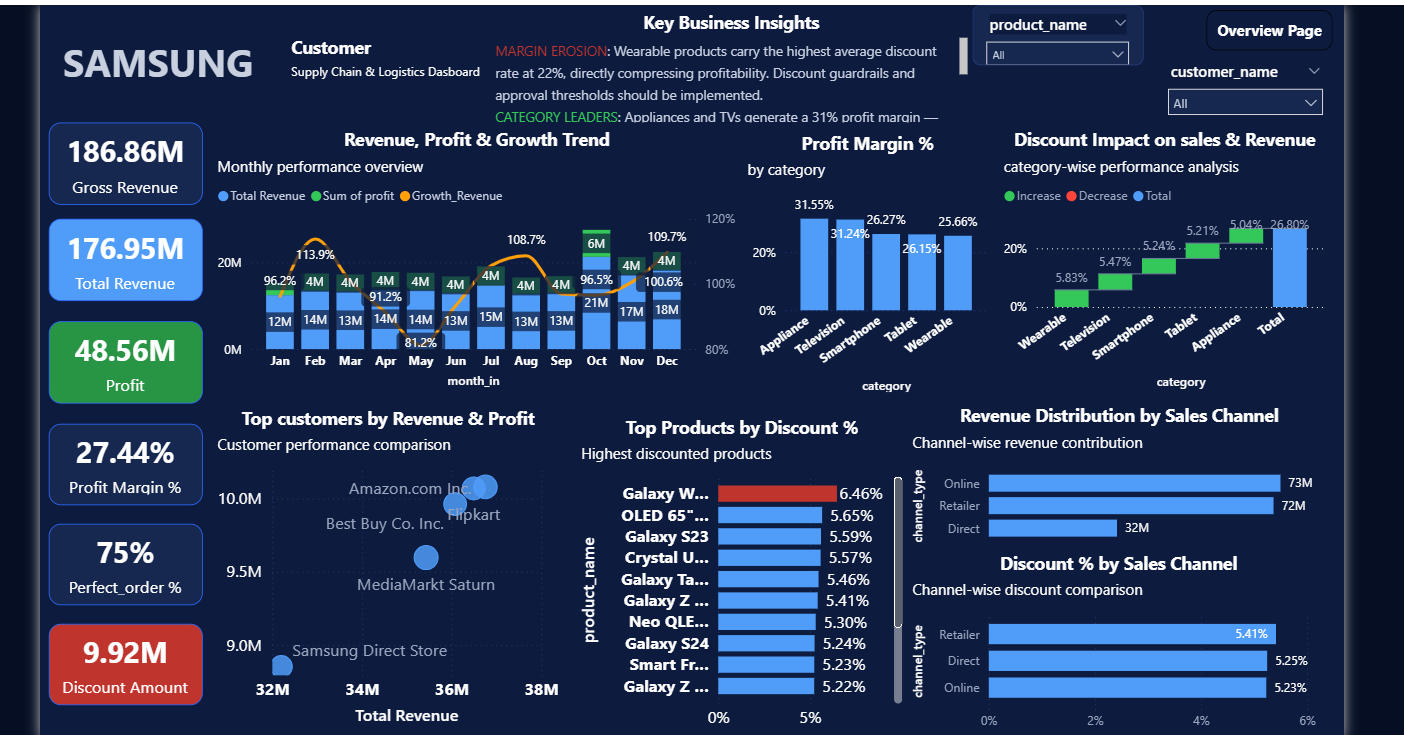

This screenshot's page, from the dashboard's own definition file:
{"tool":"powerbi","page":{"name":"Customer","canvas":[1280,720],"ordinal":5},"visuals":[{"type":"textbox","title":"Customer","box":[241.7,29.4,240.5,51.5],"z":0},{"type":"image","box":[8.6,17.2,224.5,56.4],"z":1000},{"type":"card","fields":{"Values":["MeasuresTable.Total Revenue"]},"box":[8.4,209.9,150.8,80.8],"z":2000},{"type":"card","fields":{"Values":["MeasuresTable.Profit"]},"box":[8.4,310.1,150.8,80.8],"z":3000},{"type":"card","fields":{"Values":["MeasuresTable.Profit Margin %"]},"box":[8.4,411.4,150.8,79.6],"z":4000},{"type":"card","fields":{"Values":["Sum(fact_sales.gross_revenue)"]},"box":[8.4,115.8,150.8,80.8],"z":5000},{"type":"card","fields":{"Values":["MeasuresTable.Perfect_order %"]},"box":[8.4,509.1,150.8,79.6],"z":6000},{"type":"card","fields":{"Values":["Sum(fact_sales.discount_amount)"]},"box":[8.4,606.8,150.8,79.6],"z":7000},{"type":"barChart","title":"Top customers by Revenue & Profit","fields":{"Category":["dim_customer.customer_name"],"Y":["MeasuresTable.Total Revenue","Sum(fact_sales.profit)"]},"box":[168.9,393.3,345,317.3],"z":8000},{"type":"donutChart","title":"Revenue Distribution by Sales Channel","fields":{"Y":["MeasuresTable.Total Revenue"],"Category":["dim_customer.channel_type"]},"box":[851.5,385.3,414.7,154.6],"z":9000},{"type":"lineStackedColumnComboChart","title":"Revenue, Profit & Growth Trend","fields":{"Category":["dim_date.Month_Short"],"Y":["MeasuresTable.Total Revenue","Sum(fact_sales.profit)"],"Y2":["MeasuresTable.Growth_Revenue"]},"box":[172.5,126.7,520,259.4],"z":10000},{"type":"clusteredBarChart","title":"Top Products by Discount %","fields":{"Category":["dim_product.product_name"],"Y":["MeasuresTable.Discount %"]},"box":[526,393.3,325.7,318.5],"z":11000},{"type":"scatterChart","title":"Discount Impact on sales & Revenue","fields":{"X":["MeasuresTable.Discount %"],"Series":["dim_product.category"],"Y":["Sum(fact_sales.quantity_sold)"],"Size":["MeasuresTable.Total Revenue"]},"box":[941,120.6,325.7,261.8],"z":12000},{"type":"donutChart","title":"Discount % by Sales Channel","fields":{"Category":["dim_customer.channel_type"],"Y":["MeasuresTable.Discount %"]},"box":[861.4,548.9,405.4,160.5],"z":13000},{"type":"slicer","fields":{"Values":["dim_product.product_name"]},"box":[915.7,0,167.7,59.1],"z":14000},{"type":"actionButton","box":[1144.9,4.8,124.3,39.8],"z":15000},{"type":"slicer","fields":{"Values":["dim_customer.customer_name"]},"box":[1096.7,50.7,172.5,62.7],"z":16000},{"type":"barChart","fields":{"Category":["dim_product.category"],"Y":["MeasuresTable.Profit Margin %"]},"box":[699.7,124.3,235.3,258.2],"z":17000},{"type":"textbox","title":"Key Business Insights","box":[504.3,16.9,398.1,103.8],"z":18000}]}

Visuals, with their boxes on the page's 1280x720 design canvas (x1, y1, x2, y2). These are canvas units, not pixel positions in the 1404x735 screenshot, which may show the page scaled, cropped or inside an application window:
"Customer" textbox: bbox(242, 29, 482, 81)
image: bbox(9, 17, 233, 74)
card - MeasuresTable.Total Revenue: bbox(8, 210, 159, 291)
card - MeasuresTable.Profit: bbox(8, 310, 159, 391)
card - MeasuresTable.Profit Margin %: bbox(8, 411, 159, 491)
card - Sum(fact_sales.gross_revenue): bbox(8, 116, 159, 197)
card - MeasuresTable.Perfect_order %: bbox(8, 509, 159, 589)
card - Sum(fact_sales.discount_amount): bbox(8, 607, 159, 686)
"Top customers by Revenue & Profit" barChart: bbox(169, 393, 514, 711)
"Revenue Distribution by Sales Channel" donutChart: bbox(852, 385, 1266, 540)
"Revenue, Profit & Growth Trend" lineStackedColumnComboChart: bbox(172, 127, 692, 386)
"Top Products by Discount %" clusteredBarChart: bbox(526, 393, 852, 712)
"Discount Impact on sales & Revenue" scatterChart: bbox(941, 121, 1267, 382)
"Discount % by Sales Channel" donutChart: bbox(861, 549, 1267, 709)
slicer - dim_product.product_name: bbox(916, 0, 1083, 59)
actionButton: bbox(1145, 5, 1269, 45)
slicer - dim_customer.customer_name: bbox(1097, 51, 1269, 113)
barChart - dim_product.category x MeasuresTable.Profit Margin %: bbox(700, 124, 935, 382)
"Key Business Insights" textbox: bbox(504, 17, 902, 121)
